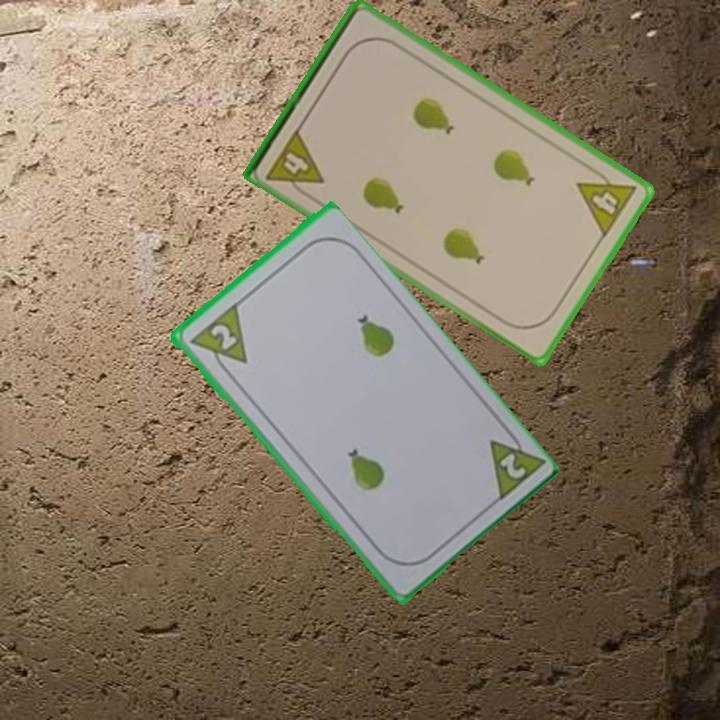2p: (185, 300, 251, 380), (484, 421, 545, 506)
4p: (573, 161, 640, 241), (262, 124, 327, 202)
